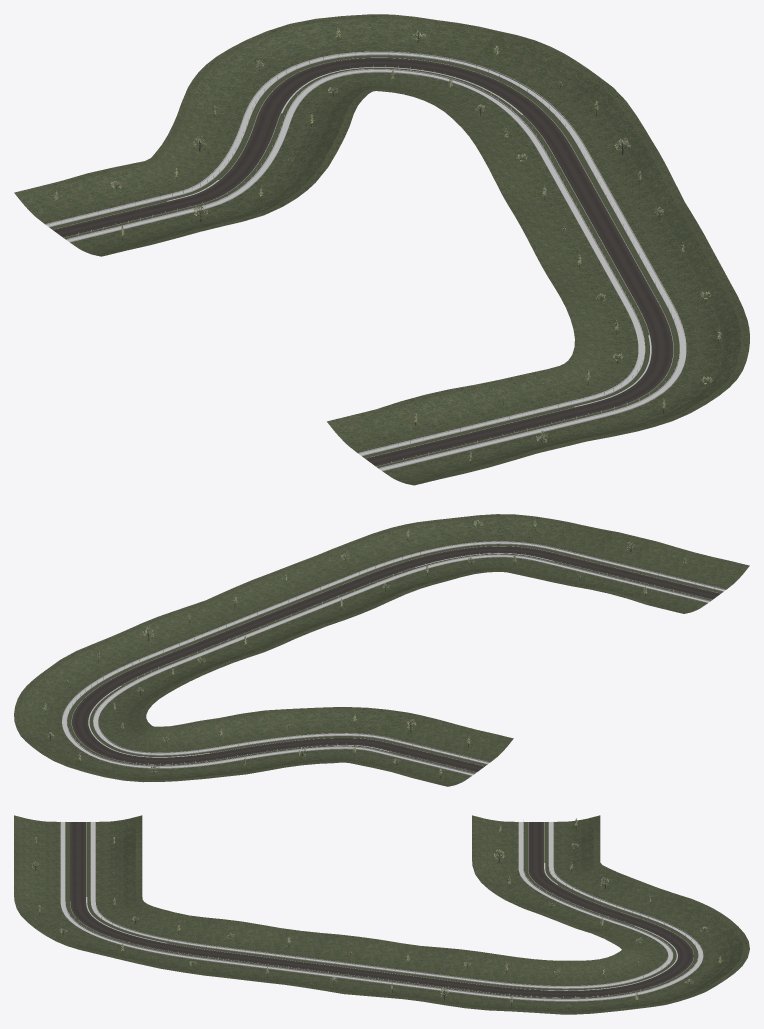
3 renders of one model, top to bottom at view 1: azimuth 30°, elevation 25°; view 2: azimuth 150°, elevation 25°; view 3: azimuth 270°, elevation 25°, orthographic. The views are drawn at different scales.
Visible parts, largest first — view 1: Grass, Road, Track, Trees; view 2: Grass, Track, Road, Trees; view 3: Grass, Road, Track, Trees.
Boxes of the visible parts, left/top/right/bottom form: Grass: left=14, top=14, right=749, bottom=485; Road: left=52, top=58, right=673, bottom=466; Track: left=45, top=51, right=686, bottom=471; Trees: left=54, top=27, right=721, bottom=463; Grass: left=14, top=514, right=749, bottom=786; Track: left=62, top=541, right=725, bottom=775; Road: left=72, top=546, right=720, bottom=772; Trees: left=43, top=519, right=686, bottom=778; Grass: left=14, top=815, right=749, bottom=1014; Road: left=70, top=822, right=693, bottom=997; Track: left=60, top=821, right=703, bottom=1001; Trees: left=32, top=818, right=721, bottom=1008.
Size of the model in its own units: 51496 by 1878 by 80346.
